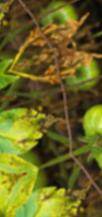Tomato Early blight leaf: (0, 91, 64, 162), (0, 68, 22, 121)
